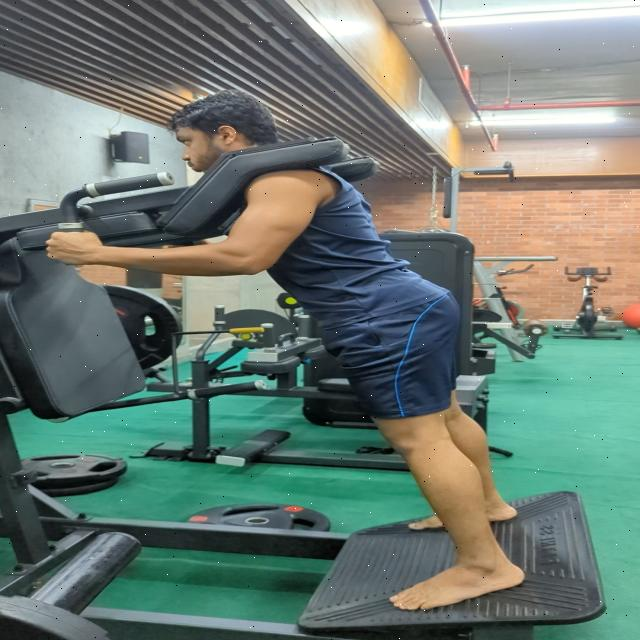Normal_SquatsWithBarbell: (0, 69, 536, 640)
